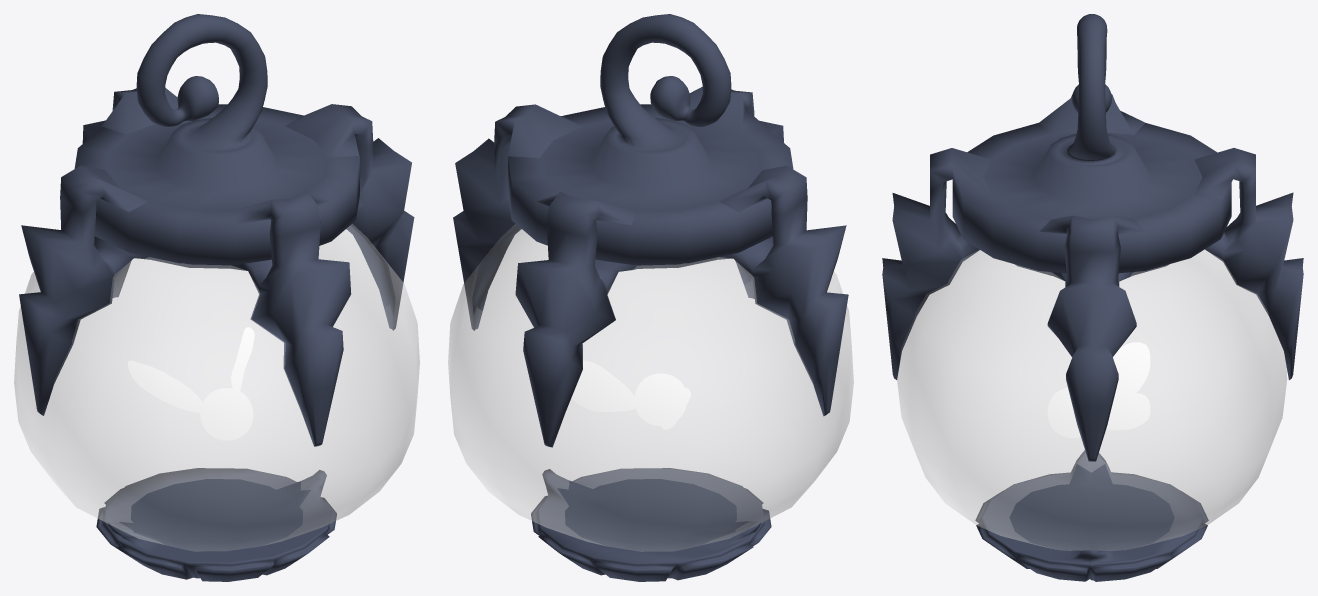
Rendered from lumafly.glb.
The picture shows the model from 3 angles, left to right: view 1: azimuth 30°, elevation 25°; view 2: azimuth 150°, elevation 25°; view 3: azimuth 270°, elevation 25°; orthographic projection. The views are drawn at different scales.
Visible parts, largest first — view 1: Cube, Cube.001, Plane, fly, wings.001, wings; view 2: Cube, Cube.001, Plane, wings, fly, wings.001; view 3: Cube, Cube.001, Plane, wings.001, wings, fly.
Part boxes in pixels (left/top/right/bottom): Cube: left=14, top=224, right=419, bottom=551; Cube.001: left=19, top=14, right=414, bottom=446; Plane: left=96, top=468, right=336, bottom=581; fly: left=200, top=388, right=253, bottom=440; wings.001: left=128, top=360, right=202, bottom=412; wings: left=231, top=327, right=254, bottom=390; Cube: left=448, top=224, right=853, bottom=551; Cube.001: left=453, top=14, right=848, bottom=447; Plane: left=531, top=468, right=771, bottom=581; wings: left=571, top=360, right=635, bottom=412; fly: left=634, top=373, right=686, bottom=426; wings.001: left=661, top=387, right=691, bottom=429; Cube: left=897, top=249, right=1287, bottom=550; Cube.001: left=882, top=14, right=1303, bottom=461; Plane: left=975, top=450, right=1208, bottom=581; wings.001: left=1113, top=342, right=1150, bottom=392; wings: left=1106, top=392, right=1150, bottom=430; fly: left=1047, top=387, right=1080, bottom=438.
Size of the model in its own units: 0.4732 by 0.6849 by 0.4747.
